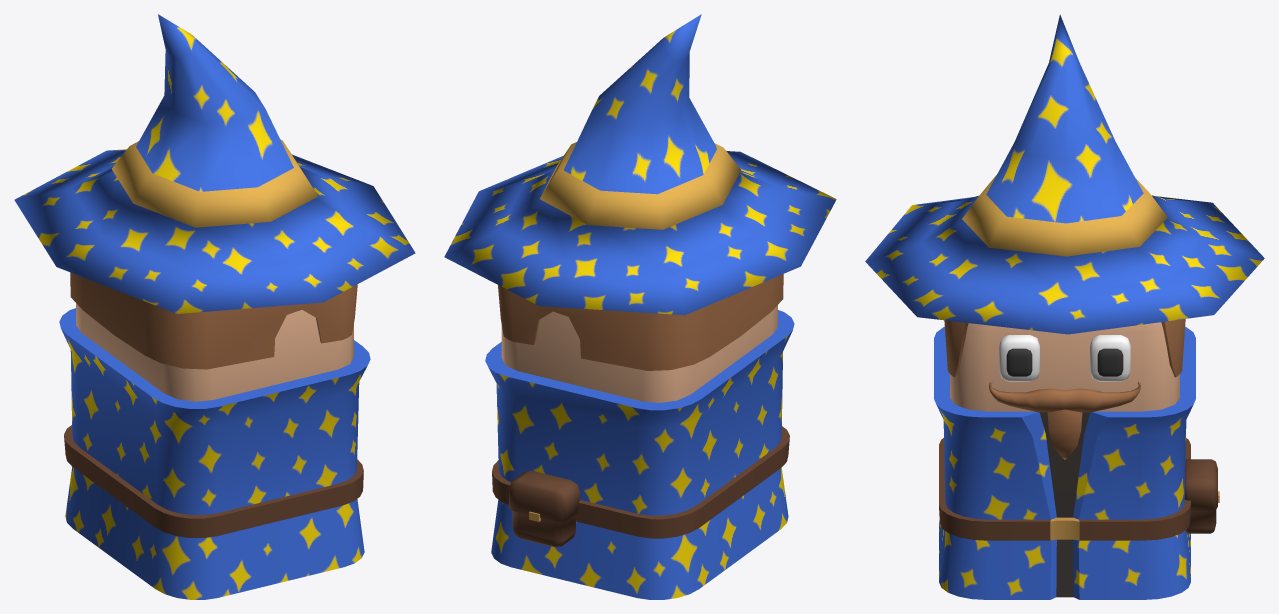
Rendered from BaseWizard.fbx.
3 renders of one model, left to right at view 1: azimuth 30°, elevation 25°; view 2: azimuth 150°, elevation 25°; view 3: azimuth 270°, elevation 25°, orthographic. The views are drawn at different scales.
Visible parts, largest first — view 1: Cube.005, Cube.001, Cube, Cube.011; view 2: Cube.005, Cube.001, Cube, Cube.011, Cube.006; view 3: Cube.005, Cube.001, Cube.011, Cube.009, Cube.002, Cube.006, Cube, Cube.008, Cube.010.
Boxes of the visible parts, <box> form: Cube.005: <box>14,14,415,313</box>; Cube.001: <box>59,308,370,599</box>; Cube: <box>70,272,357,369</box>; Cube.011: <box>76,303,353,401</box>; Cube.005: <box>444,14,836,315</box>; Cube.001: <box>485,310,794,599</box>; Cube: <box>498,274,783,370</box>; Cube.011: <box>501,305,777,402</box>; Cube.006: <box>509,470,579,547</box>; Cube.005: <box>865,14,1264,334</box>; Cube.001: <box>934,327,1195,599</box>; Cube.011: <box>950,322,1179,411</box>; Cube.009: <box>989,381,1140,412</box>; Cube.002: <box>999,335,1130,381</box>; Cube.006: <box>1184,459,1217,533</box>; Cube: <box>944,319,1185,377</box>; Cube.008: <box>1006,348,1123,376</box>; Cube.010: <box>1047,409,1082,459</box>.
Bounding box in the file's own units: 260 × 416 × 295.
10 materials, 1 textured.
